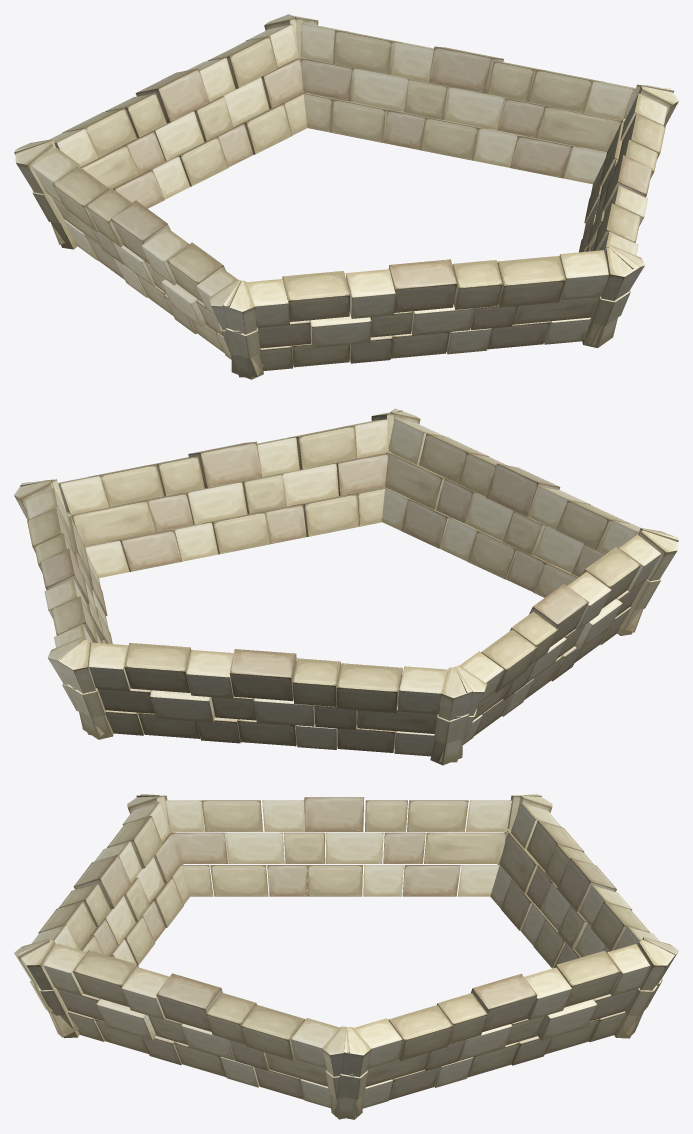
The model's file is arena 1.FBX.
3 views of the same model, one above another, from view 1: azimuth 30°, elevation 25°; view 2: azimuth 150°, elevation 25°; view 3: azimuth 270°, elevation 25° (orthographic). The views are drawn at different scales.
Visible parts, largest first — view 1: Box107, Box106, Box104, Box103, Box105; view 2: Box104, Box105, Box107, Box103, Box106; view 3: Box103, Box106, Box105, Box104, Box107.
Boxes of the visible parts, x1,y1,x2,y2 form: Box107: [222, 246, 640, 379]; Box106: [287, 14, 674, 184]; Box104: [14, 14, 310, 244]; Box103: [15, 141, 263, 377]; Box105: [579, 86, 678, 345]; Box104: [57, 639, 472, 765]; Box105: [20, 410, 402, 577]; Box107: [376, 408, 678, 632]; Box103: [437, 529, 677, 762]; Box106: [14, 480, 112, 736]; Box103: [136, 795, 541, 896]; Box106: [334, 939, 675, 1119]; Box105: [18, 939, 359, 1119]; Box104: [490, 794, 678, 1035]; Box107: [14, 794, 190, 1037].
Bounding box in the file's own units: 3.06 × 0.5344 × 3.3.
5 materials, 5 textured.
